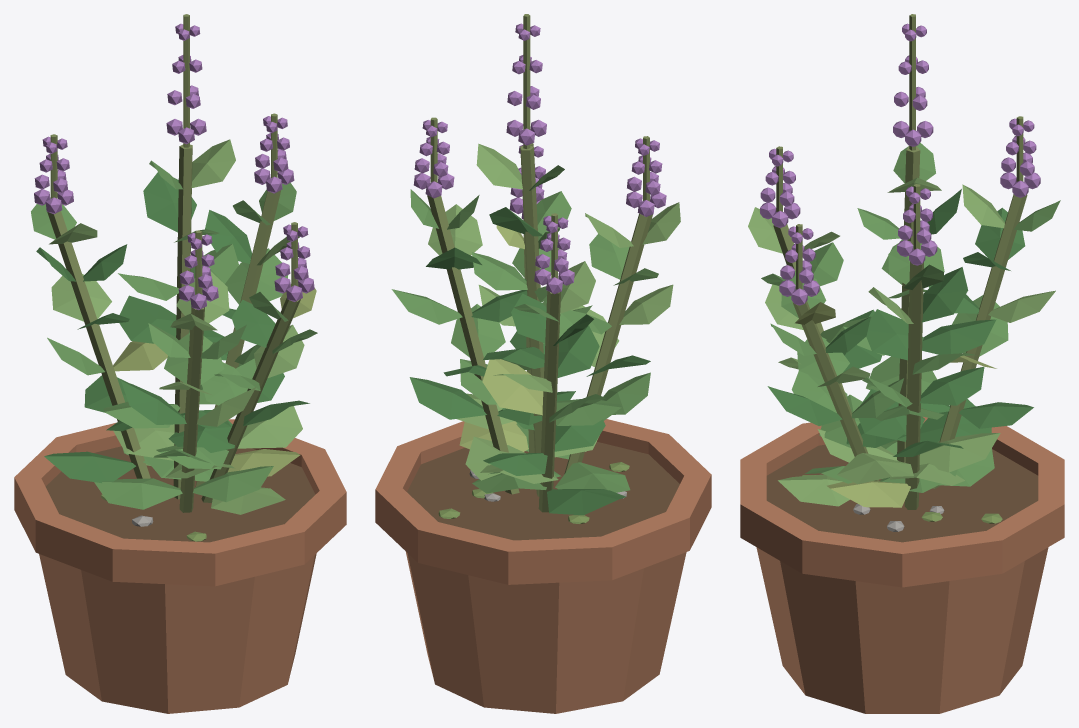
The model's file is tulsi.glb.
3 renders of one model, left to right at view 1: azimuth 30°, elevation 25°; view 2: azimuth 150°, elevation 25°; view 3: azimuth 270°, elevation 25°, orthographic. The views are drawn at different scales.
Visible parts, largest first — view 1: plant, pot; view 2: pot, plant; view 3: pot, plant.
Boxes of the visible parts, box(x1,y1,x2,y2) form: plant: box(31, 14, 317, 514); pot: box(14, 419, 346, 713); pot: box(375, 419, 711, 713); plant: box(391, 14, 680, 515); pot: box(740, 417, 1064, 713); plant: box(748, 14, 1060, 509).
Bounding box in the file's own units: 0.37 × 0.785 × 0.3519.
